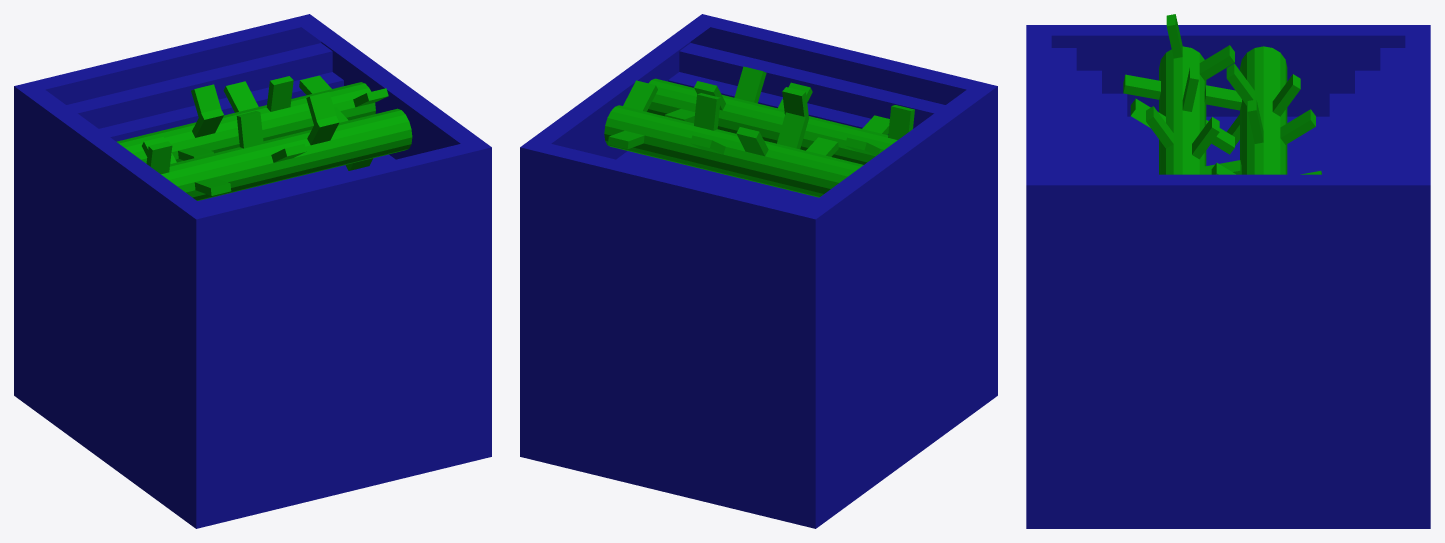
Rendered from macerator50V.obj.
The picture shows the model from 3 angles, left to right: view 1: azimuth 30°, elevation 25°; view 2: azimuth 150°, elevation 25°; view 3: azimuth 270°, elevation 25°; orthographic projection. The views are drawn at different scales.
Parts seen in each view (by area): view 1: main, rouleau2, rouleau1; view 2: main, rouleau1, rouleau2; view 3: main, rouleau2, rouleau1.
Boxes of the visible parts, bbox=[...] form: main: bbox=[14, 14, 491, 528]; rouleau2: bbox=[142, 92, 412, 200]; rouleau1: bbox=[116, 75, 388, 163]; main: bbox=[520, 14, 997, 528]; rouleau1: bbox=[604, 80, 863, 197]; rouleau2: bbox=[647, 66, 914, 164]; main: bbox=[1026, 25, 1430, 528]; rouleau2: bbox=[1123, 14, 1241, 174]; rouleau1: bbox=[1204, 46, 1321, 174].
Bounding box in the file's own units: 0.9375 × 0.9965 × 1.
